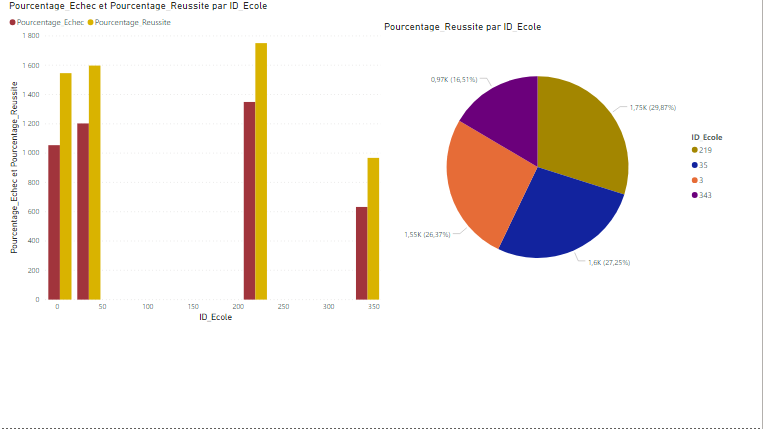

What the dashboard file says about the page in this screenshot:
{"tool":"powerbi","page":{"name":"Page 1","canvas":[1280,720],"ordinal":0},"visuals":[{"type":"clusteredColumnChart","box":[10,0,280,280],"z":0},{"type":"clusteredColumnChart","fields":{"Y":["Sum(etudiants factresultat.Pourcentage_Echec)","Sum(etudiants factresultat.Pourcentage_Reussite)"],"Category":["etudiants dimecole.Nom_Ecole"]},"box":[10,290,280,280],"z":1},{"type":"pieChart","fields":{"Y":["Sum(etudiants factresultat.Pourcentage_Reussite)","Sum(etudiants factresultat.Pourcentage_Echec)"],"Category":["etudiants dimfiliere.Nom_Filiere"]},"box":[408.2,174.7,280.5,151.2],"z":2},{"type":"donutChart","fields":{"Y":["Sum(etudiants factresultat.Pourcentage_Reussite)","Sum(etudiants factresultat.Pourcentage_Echec)"],"Category":["etudiants dimfiliere.Nom_Filiere"]},"box":[756,0,280,280],"z":3}]}

Visuals, with their boxes in screenshot pixels (x1, y1, x2, y2), scaled from the page's 1280x720 canvas onto the 764x429 screenshot:
clusteredColumnChart: [6,0,173,167]
clusteredColumnChart - Sum(etudiants factresultat.Pourcentage_Echec) x Sum(etudiants factresultat.Pourcentage_Reussite): [6,173,173,340]
pieChart - Sum(etudiants factresultat.Pourcentage_Reussite) x Sum(etudiants factresultat.Pourcentage_Echec): [244,104,411,194]
donutChart - Sum(etudiants factresultat.Pourcentage_Reussite) x Sum(etudiants factresultat.Pourcentage_Echec): [451,0,618,167]
